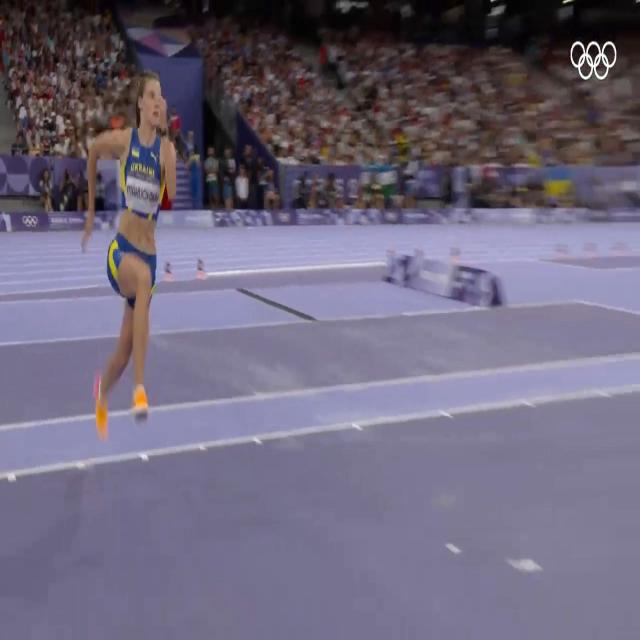run: (81, 71, 177, 438)
